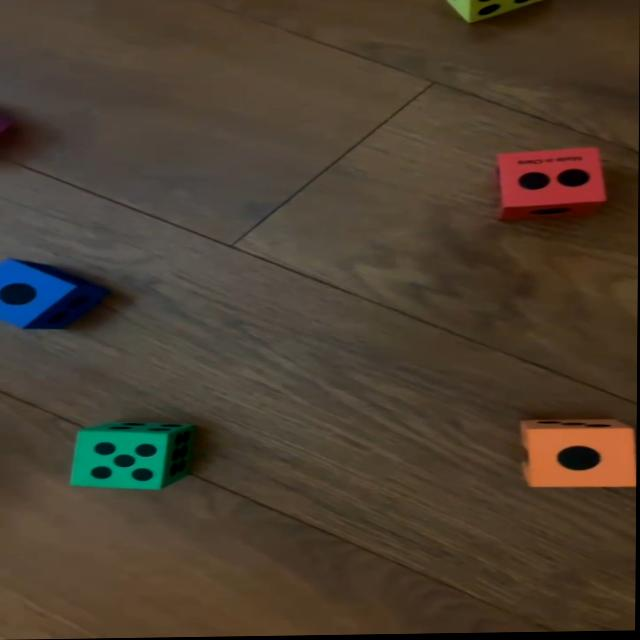blue_block: (0, 258, 109, 328)
red_block: (496, 149, 606, 220)
